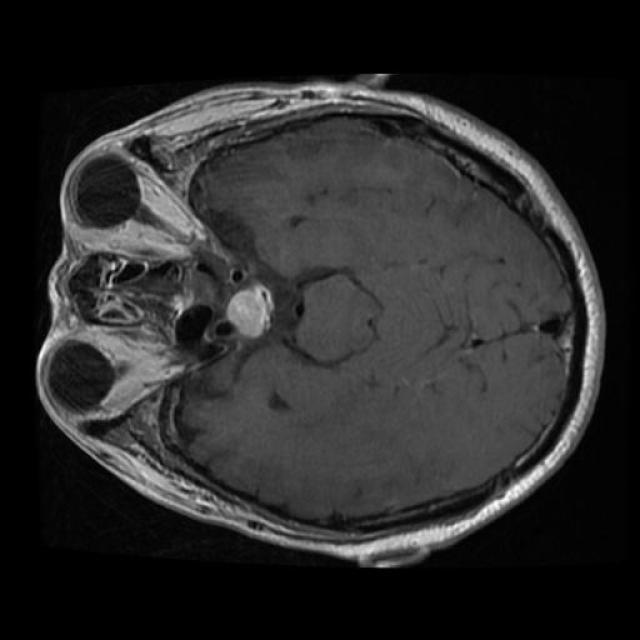Pituitary: (227, 286, 273, 338)
